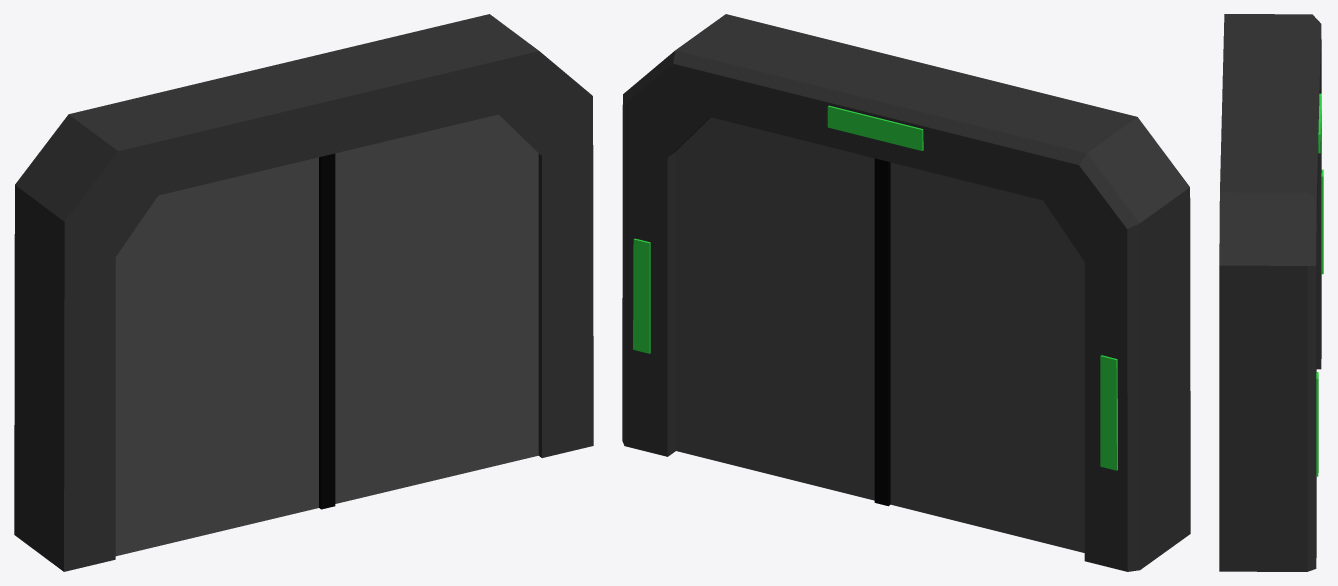
Rendered from gate_01.fbx.
3 views of the same model, side by side, from view 1: azimuth 30°, elevation 25°; view 2: azimuth 150°, elevation 25°; view 3: azimuth 270°, elevation 25° (orthographic). The views are drawn at different scales.
Visible parts, largest first — view 1: door_frame, right_door, left_door; view 2: door_frame, left_door, right_door; view 3: door_frame.
Boxes of the visible parts, x1,y1,x2,y2 form: door_frame: (14,14,593,571); right_door: (115,155,328,556); left_door: (328,114,538,507); door_frame: (622,14,1190,571); left_door: (676,117,881,504); right_door: (881,160,1084,552); door_frame: (1219,14,1323,571).
Bounding box in the file's own units: 4.06 × 0.7962 × 3.
